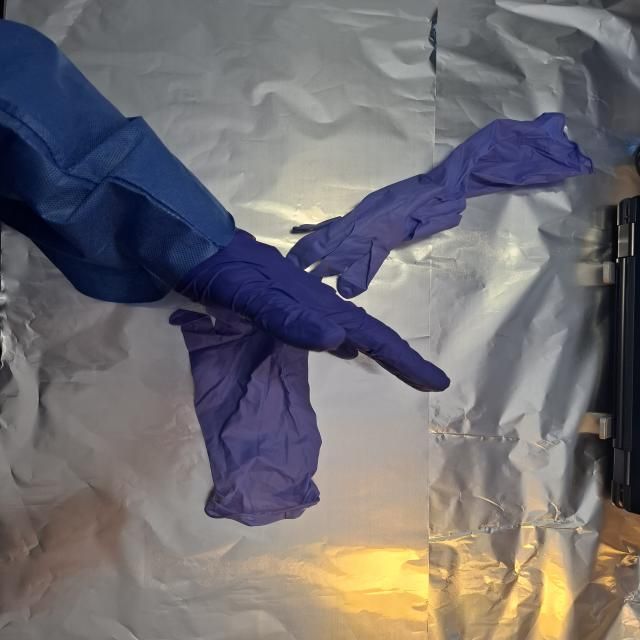glove_on: (158, 224, 454, 396)
